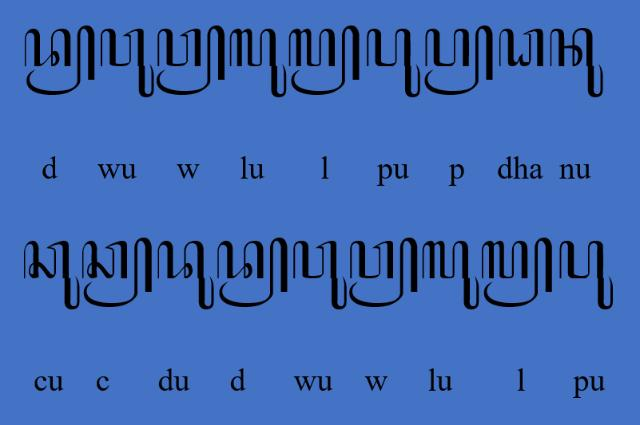-c: (82, 236, 154, 310)
-d: (216, 238, 290, 308), (24, 26, 96, 96)
-l: (480, 236, 554, 308), (288, 25, 360, 97)
-p: (424, 25, 494, 97)
-w: (348, 237, 418, 309), (157, 24, 226, 96)
cu: (23, 240, 81, 312)
dh: (499, 28, 545, 68)
du: (157, 240, 216, 310)
lu: (228, 27, 288, 98), (421, 240, 479, 312)
nu: (549, 27, 605, 98)
pu: (366, 28, 422, 98), (558, 240, 614, 310)
wu: (292, 240, 348, 312), (100, 27, 154, 99)
